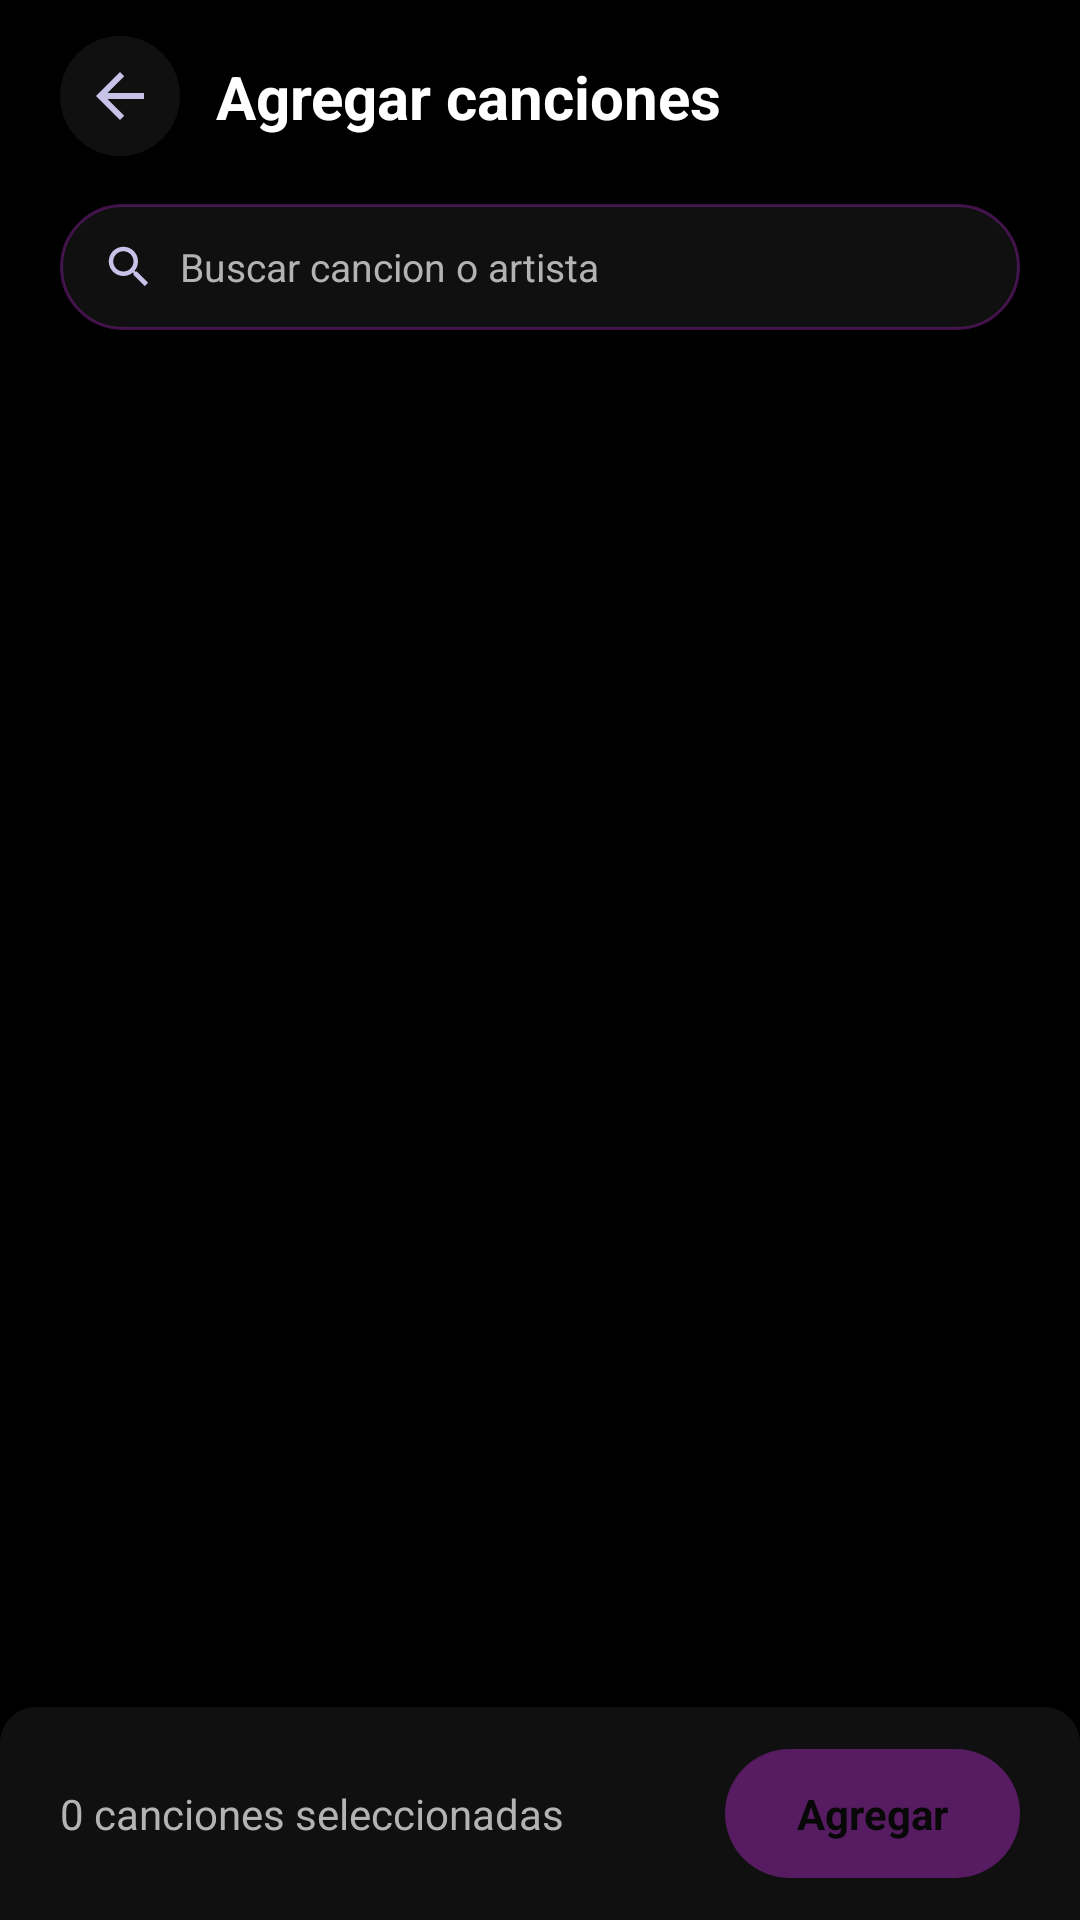

Point at icon controls on the screen. Image size 1080x1920, points as (x=x, y=y).
Regresar: (x=120, y=96)
